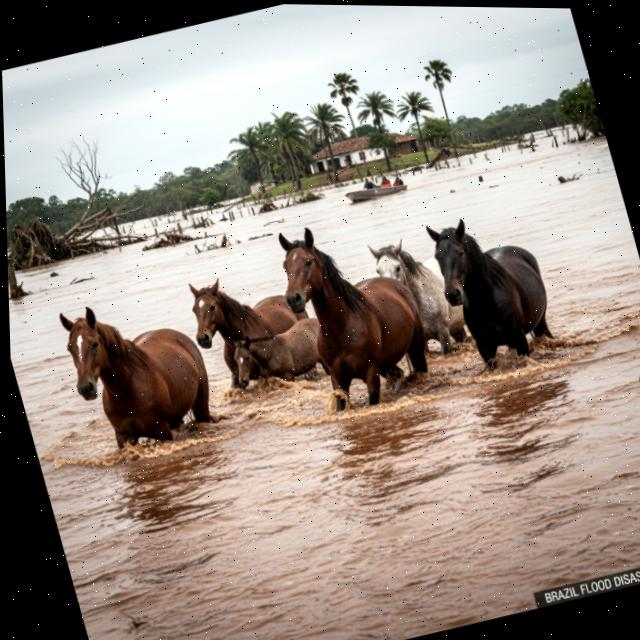civilian: (360, 174, 377, 191), (378, 173, 392, 188), (393, 174, 405, 187)
horse: (256, 199, 448, 426), (45, 269, 227, 468), (401, 185, 583, 382), (174, 250, 327, 400), (356, 222, 468, 359), (213, 313, 344, 401)
